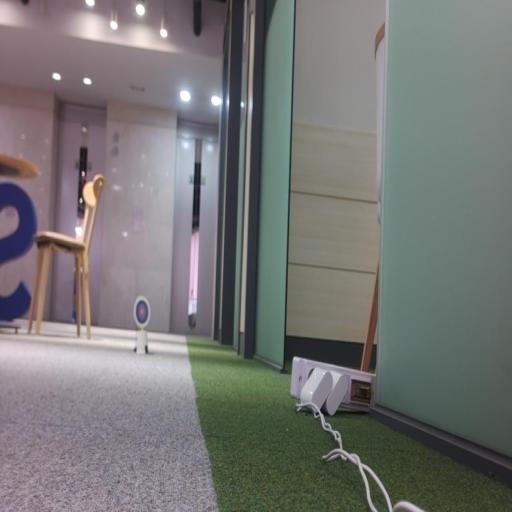target: (134, 296, 150, 327)
